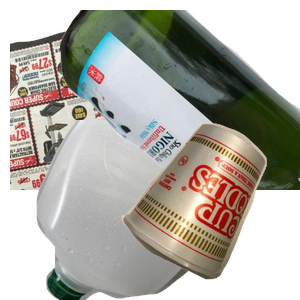glass: (60, 10, 300, 190)
paper: (10, 15, 250, 195)
plastic: (34, 120, 274, 300)
trash: (119, 121, 300, 300)
